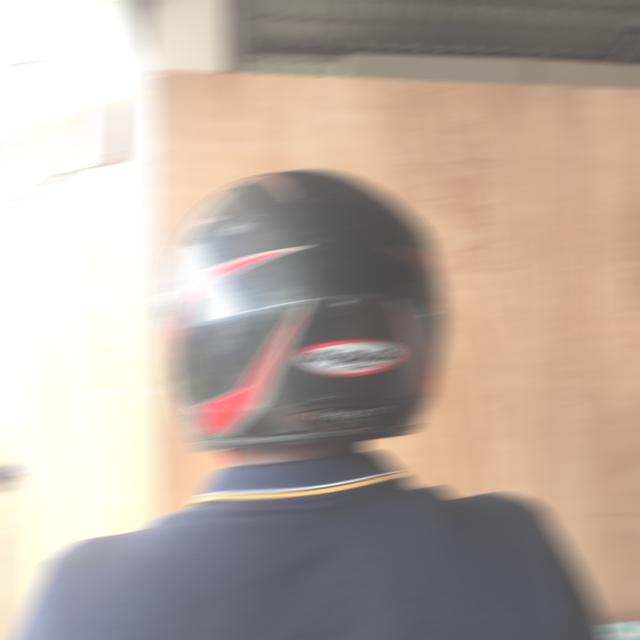With Helmet: (156, 169, 449, 452)
